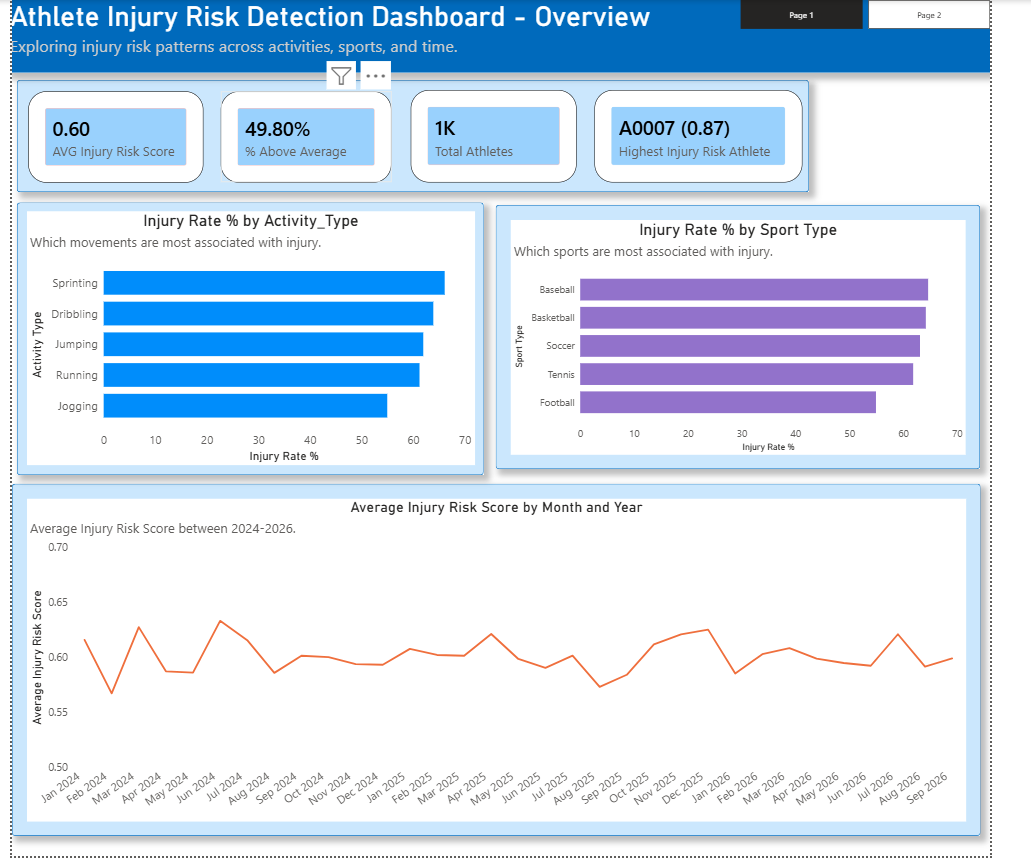

Layout of this report page (visuals, bound fields, positions):
{"tool":"powerbi","page":{"name":"Page 1","canvas":[1280,720],"ordinal":0},"visuals":[{"type":"barChart","fields":{"Category":["dim_activity.Activity_Type"],"Y":["dim_activity.Injury Rate %"]},"box":[24.4,14,502.3,300],"z":0},{"type":"barChart","fields":{"Category":["dim_sport_type.Sport_Type"],"Y":["dim_activity.Injury Rate %"]},"box":[536,14,502,300],"z":1000},{"type":"lineChart","fields":{"Y":["fact_sessions.Average Injury Risk Score"],"Category":["dim_date.Year_Month"]},"box":[260.5,324.4,1019.8,395.3],"z":2000}]}

Visuals, with their boxes on the page's 1280x720 design canvas (x1, y1, x2, y2). These are canvas units, not pixel positions in the 1031x861 screenshot, which may show the page scaled, cropped or inside an application window:
barChart - dim_activity.Activity_Type x dim_activity.Injury Rate %: (24, 14, 527, 314)
barChart - dim_sport_type.Sport_Type x dim_activity.Injury Rate %: (536, 14, 1038, 314)
lineChart - fact_sessions.Average Injury Risk Score x dim_date.Year_Month: (260, 324, 1280, 720)
